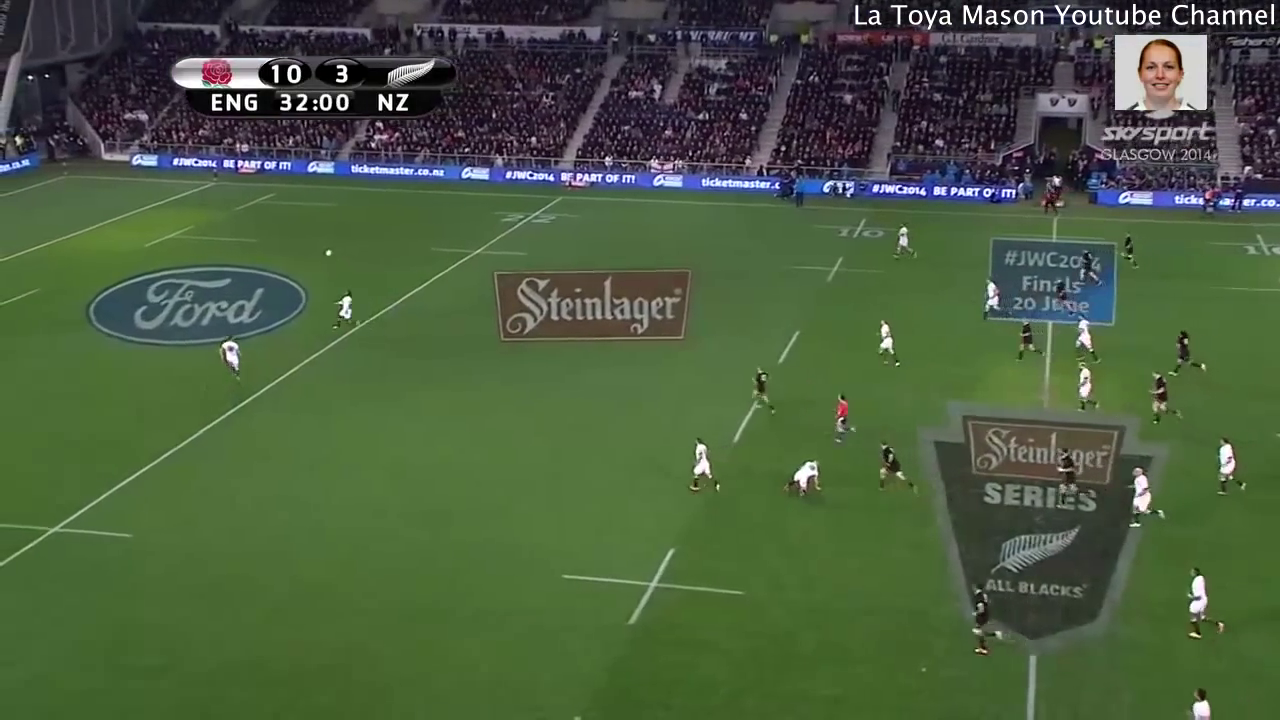10_metre: (549, 537, 751, 632), (779, 250, 901, 288), (801, 214, 909, 241), (1210, 230, 1280, 259)
ball: (323, 246, 334, 258)
player: (1173, 562, 1232, 647), (963, 574, 1012, 663), (1118, 462, 1172, 536), (1206, 430, 1251, 503), (873, 436, 921, 504), (1062, 301, 1108, 368), (683, 426, 725, 499), (1161, 322, 1212, 380), (1065, 354, 1106, 424), (781, 451, 831, 504), (741, 356, 783, 416), (214, 327, 253, 391), (1045, 440, 1083, 504), (827, 384, 861, 455), (868, 311, 905, 374), (1010, 313, 1050, 367), (972, 269, 1007, 328), (1040, 272, 1081, 320), (1176, 681, 1226, 720), (1109, 226, 1147, 277), (888, 213, 919, 271), (326, 284, 360, 336), (1070, 245, 1106, 288)
